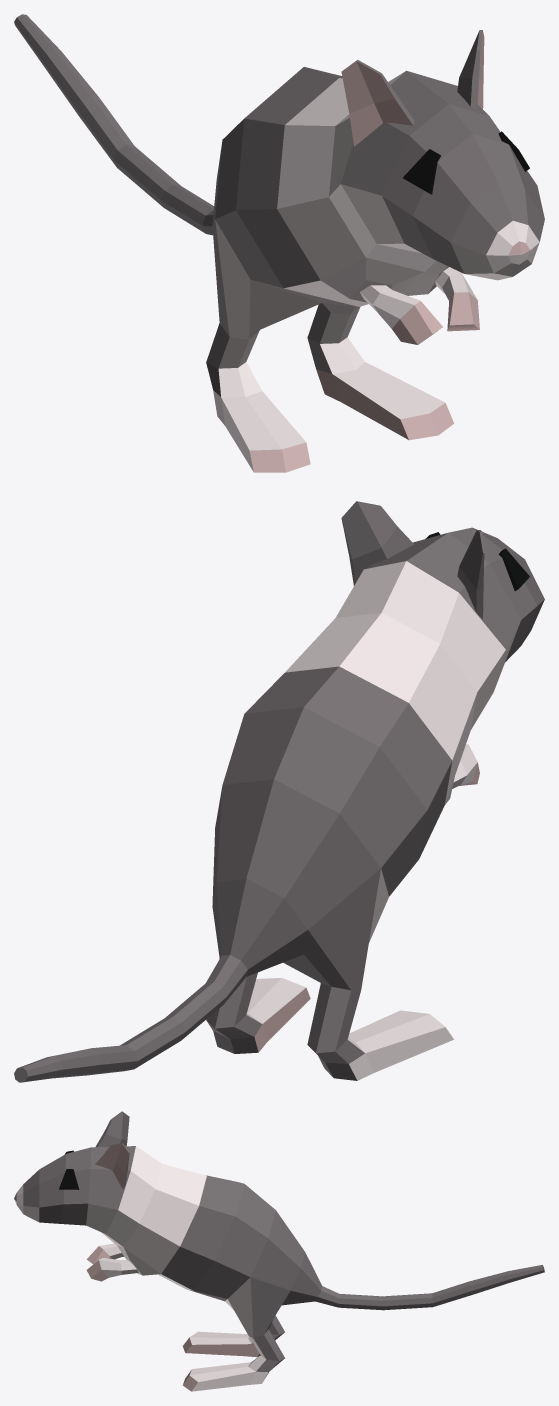
The model's file is gerbil_model.obj.
3 views of the same model, one above another, from view 1: azimuth 30°, elevation 25°; view 2: azimuth 150°, elevation 25°; view 3: azimuth 270°, elevation 25° (orthographic). The views are drawn at different scales.
Visible parts, largest first — view 1: Geo_Gerbil; view 2: Geo_Gerbil; view 3: Geo_Gerbil.
Boxes of the visible parts, left/top/right/bottom form: Geo_Gerbil: left=14, top=14, right=544, bottom=472; Geo_Gerbil: left=14, top=501, right=544, bottom=1082; Geo_Gerbil: left=14, top=1111, right=544, bottom=1391.
Size of the model in its own units: 26.92 by 57.81 by 117.
Materials: 1 (1 with a texture image).
